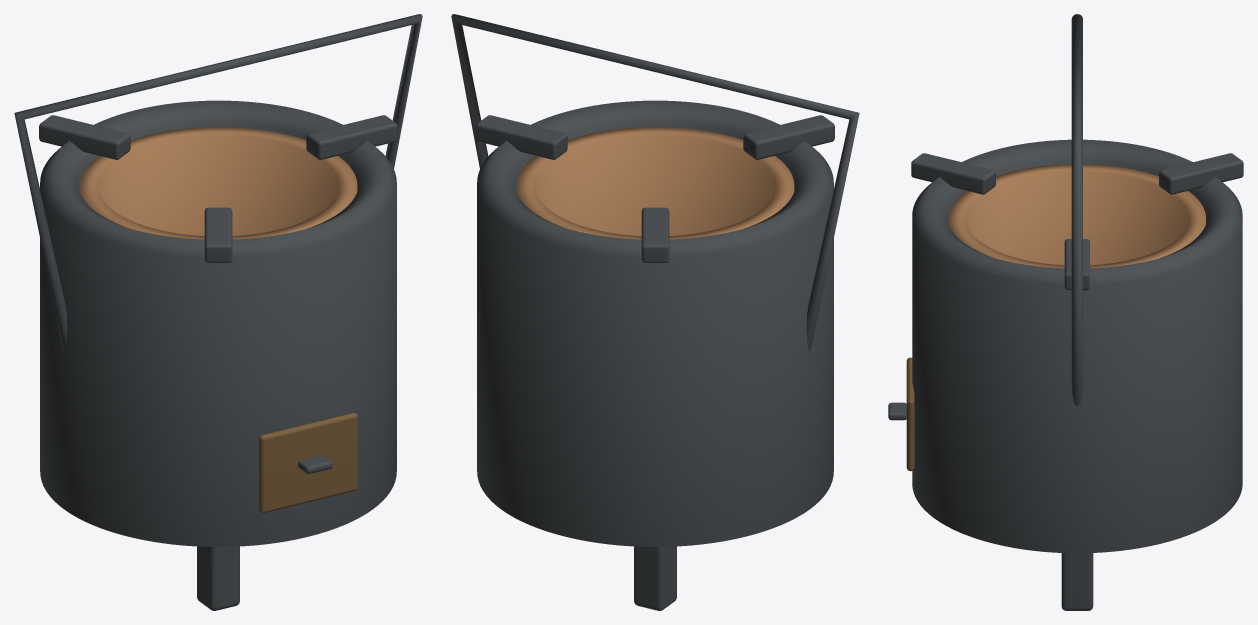
Rendered from jiko-stove.glb.
The picture shows the model from 3 angles, left to right: view 1: azimuth 30°, elevation 25°; view 2: azimuth 150°, elevation 25°; view 3: azimuth 270°, elevation 25°; orthographic projection. The views are drawn at different scales.
Visible parts, largest first — view 1: Cylindrical stove shell, Clay-lined chamber, Wire carry handle, Air door, Stove foot.002, Pot rest, Pot rest.001, Pot rest.002; view 2: Cylindrical stove shell, Clay-lined chamber, Wire carry handle, Stove foot.001, Pot rest, Pot rest.002, Pot rest.001; view 3: Cylindrical stove shell, Clay-lined chamber, Wire carry handle, Pot rest.001, Pot rest.002, Stove foot, Air door, Pot rest.
Part boxes in pixels (x1,y1,x2,y2): Cylindrical stove shell: (40, 100, 396, 546); Clay-lined chamber: (79, 127, 357, 239); Wire carry handle: (14, 14, 422, 350); Air door: (259, 412, 358, 513); Stove foot.002: (197, 546, 239, 610); Pot rest: (306, 115, 397, 159); Pot rest.001: (39, 115, 130, 159); Pot rest.002: (204, 207, 232, 262); Cylindrical stove shell: (477, 100, 833, 546); Clay-lined chamber: (516, 127, 794, 239); Wire carry handle: (451, 14, 859, 350); Stove foot.001: (634, 546, 676, 610); Pot rest: (476, 115, 567, 159); Pot rest.002: (743, 115, 834, 159); Pot rest.001: (641, 207, 669, 262); Cylindrical stove shell: (912, 139, 1242, 553); Clay-lined chamber: (948, 164, 1205, 268); Wire carry handle: (1071, 14, 1082, 406); Pot rest.001: (1159, 153, 1243, 194); Pot rest.002: (911, 153, 995, 194); Stove foot: (1061, 553, 1093, 610); Air door: (906, 357, 914, 471); Pot rest: (1064, 239, 1089, 290).
Size of the model in its own units: 1.37 by 1.53 by 1.12.
